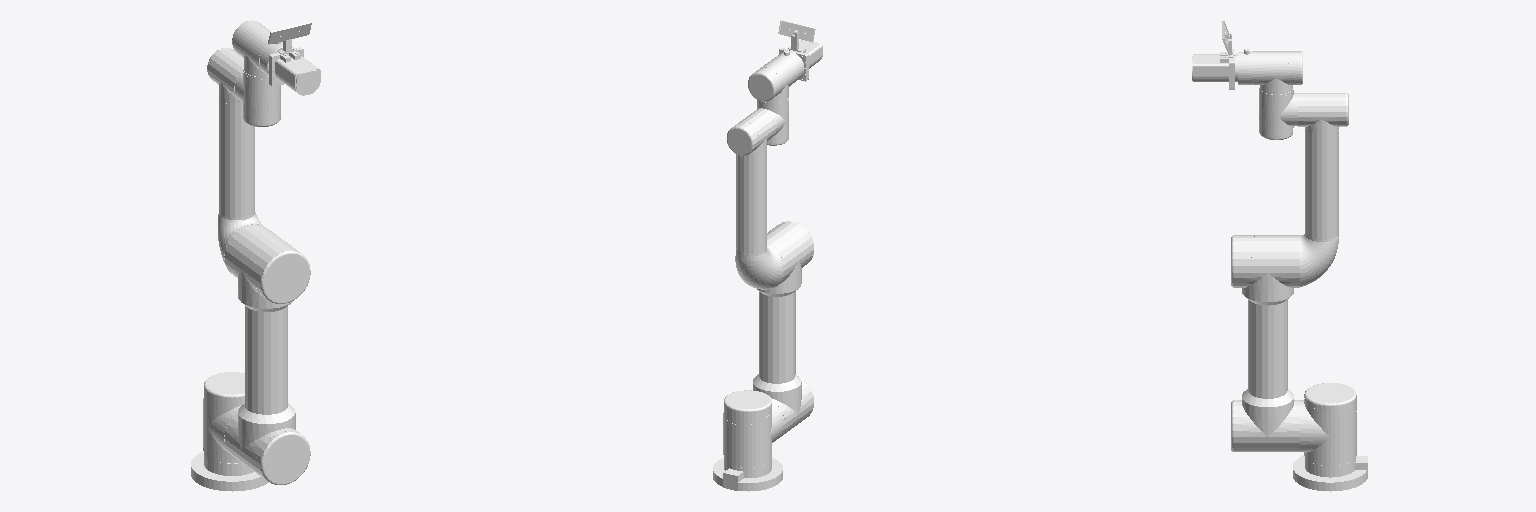
robot.urdf — aubo_C5:
<?xml version="1.0"?>
<robot name="aubo_C5">
  <dh_type type="modified"/>
  <safety_para singularity_consistent="0.02 0.01 10 0.2 0.045 10"/>
  <render_settings ambient_light_color="0xffffff" ambient_light_intensity="0.7" directional_light_color="0xffffff" directional_light_intensity="0.3"/>
  <friction_coeff value="0.65"/>
  <link name="base_link">
    <inertial>
      <origin xyz="0.000129 0.001249 0.016678" rpy="0 0 0" />
      <mass value="1.53902" />
      <inertia ixx="0.003278" ixy="-0.000001" ixz="-0.000001" iyy="0.003017" iyz="-0.000048" izz="0.005841" />
    </inertial>
    <visual>
      <origin xyz="0 0 0" rpy="0 0 0" />
      <geometry>
        <mesh filename="../meshes/aubo_C5/visual/link0.stl" />
      </geometry>
      <material name="">
        <color rgba="1 1 1 1" />
      </material>
    </visual>
    <collision>
      <origin xyz="0 0 0" rpy="0 0 0" />
      <geometry>
        <mesh filename="../meshes/aubo_C5/collision/link0.STL" />
      </geometry>
    </collision>
  </link>

  <link name="shoulder_Link">
    <inertial>
      <origin xyz="-0.00001 0.001807 -0.013854" rpy="0 0 0" />
      <mass value="4.848581" />
      <inertia ixx="0.011842" ixy="0" ixz="0.000004" iyy="0.0118" iyz="-0.000103" izz="0.008103" />
    </inertial>
    <visual>
      <origin xyz="0 0 0" rpy="0 0 0" />
      <geometry>
        <mesh filename="../meshes/aubo_C5/visual/link1.stl" />
      </geometry>
      <material name="">
        <color rgba="1 1 1 1" />
      </material>
    </visual>
    <collision>
      <origin xyz="0 0 0" rpy="0 0 0" />
      <geometry>
        <mesh filename="../meshes/aubo_C5/collision/link1.STL" />
      </geometry>
    </collision>
  </link>

  <joint name="shoulder_joint" type="revolute">
    <origin xyz="0 0 0.122" rpy="0 0 3.1415926535897932384626433832795" />
    <parent link="base_link" />
    <child link="shoulder_Link" />
    <axis xyz="0 0 1" />
    <limit lower="-6.283185307179586476925286766559" upper="6.283185307179586476925286766559" effort="133" start_stop="207" velocity="2.565634" />
    <property inertia="2.027236783" damping="0" stiffness="0" offset="0" motor_constant="8.73" ratio="121" protect_max_torque="80.0" equa_inertia="1.5" />
  </joint>

  <link name="upperArm_Link">
    <inertial>
      <origin xyz="0.2040 0 0.006603" rpy="0 0 0" />
      <mass value="10.836261" />
      <inertia ixx="0.026024" ixy="0.00002" ixz="0" iyy="0.432805" iyz="0" izz="0.425155" />
    </inertial>
    <visual>
      <origin xyz="0 0 0" rpy="0 0 0" />
      <geometry>
        <mesh filename="../meshes/aubo_C5/visual/link2.stl" />
      </geometry>
      <material name="">
        <color rgba="1 1 1 1" />
      </material>
    </visual>
    <collision>
      <origin xyz="0 0 0" rpy="0 0 0" />
      <geometry>
        <mesh filename="../meshes/aubo_C5/collision/link2.STL" />
      </geometry>
    </collision>
  </link>

  <joint name="upperArm_joint" type="revolute">
    <origin xyz="0 0.1215 0" rpy="-1.5707963267948966192313216916398 -1.5707963267948966192313216916398 0" />
    <parent link="shoulder_Link" />
    <child link="upperArm_Link" />
    <axis xyz="0 0 1" />
    <limit lower="-6.283185307179586476925286766559" upper="6.283185307179586476925286766559" effort="133" start_stop="207" velocity="2.565634" />
    <property inertia="2.027236783" damping="0" stiffness="0" offset="0" motor_constant="8.73" ratio="121" protect_max_torque="80.0" equa_inertia="1.5" />
  </joint>

  <link name="foreArm_Link">
    <inertial>
      <origin xyz="0.264626 -0.00002 0.093611" rpy="0 0 0" />
      <mass value="2.849168" />
      <inertia ixx="0.003634" ixy="0.000007" ixz="0.000168" iyy="0.065327" iyz="0.000002" izz="0.064676" />
    </inertial>
    <visual>
      <origin xyz="0 0 0" rpy="0 0 0" />
      <geometry>
        <mesh filename="../meshes/aubo_C5/visual/link3.stl" />
      </geometry>
      <material name="">
        <color rgba="1 1 1 1" />
      </material>
    </visual>
    <collision>
      <origin xyz="0 0 0" rpy="0 0 0" />
      <geometry>
        <mesh filename="../meshes/aubo_C5/collision/link3.STL" />
      </geometry>
    </collision>
  </link>

  <joint name="foreArm_joint" type="revolute">
    <origin xyz="0.408 0 0" rpy="-3.1415926535897932384626433832795 0 0" />
    <parent link="upperArm_Link" />
    <child link="foreArm_Link" />
    <axis xyz="0 0 1" />
    <limit lower="-6.283185307179586476925286766559" upper="6.283185307179586476925286766559" effort="133" start_stop="207" velocity="2.565634" />
    <property inertia="2.027236783" damping="0" stiffness="0" offset="0" motor_constant="8.73" ratio="121" protect_max_torque="60.0" equa_inertia="1.2" />
  </joint>

  <link name="wrist1_Link">
    <inertial>
      <origin xyz="0.000038 0.011278 -0.001539" rpy="0 0 0" />
      <mass value="1.628022" />
      <inertia ixx="0.001951" ixy="0.000003" ixz="0.000001" iyy="0.001154" iyz="-0.000042" izz="0.001931" />
    </inertial>
    <visual>
      <origin xyz="0 0 0" rpy="0 0 0" />
      <geometry>
        <mesh filename="../meshes/aubo_C5/visual/link4.stl" />
      </geometry>
      <material name="">
        <color rgba="1 1 1 1" />
      </material>
    </visual>
    <collision>
      <origin xyz="0 0 0" rpy="0 0 0" />
      <geometry>
        <mesh filename="../meshes/aubo_C5/collision/link4.STL" />
      </geometry>
    </collision>
  </link>

  <joint name="wrist1_joint" type="revolute">
    <origin xyz="0.376 0 0" rpy="3.1415926535897932384626433832795 0 1.5707963267948966192313216916398" />
    <parent link="foreArm_Link" />
    <child link="wrist1_Link" />
    <axis xyz="0 0 1" />
    <limit lower="-6.283185307179586476925286766559" upper="6.283185307179586476925286766559" effort="13.5" start_stop="34" velocity="3.106686" />
    <property inertia="0.219280696" damping="0" stiffness="0" offset="0" motor_constant="7.27" ratio="101" protect_max_torque="16.0" equa_inertia="0.05" />
  </joint>

  <link name="wrist2_Link">
    <inertial>
      <origin xyz="-0.000038 -0.011278 -0.001539" rpy="0 0 0" />
      <mass value="1.628022" />
      <inertia ixx="0.001951" ixy="0.000003" ixz="-0.000001" iyy="0.001154" iyz="0.000042" izz="0.001931" />
    </inertial>
    <visual>
      <origin xyz="0 0 0" rpy="0 0 0" />
      <geometry>
        <mesh filename="../meshes/aubo_C5/visual/link5.stl" />
      </geometry>
      <material name="">
        <color rgba="1 1 1 1" />
      </material>
    </visual>
    <collision>
      <origin xyz="0 0 0" rpy="0 0 0" />
      <geometry>
        <mesh filename="../meshes/aubo_C5/collision/link5.STL" />
      </geometry>
    </collision>
  </link>

  <joint name="wrist2_joint" type="revolute">
    <origin xyz="0 0.1025 0" rpy="-1.5707963267948966192313216916398 0 0" />
    <parent link="wrist1_Link" />
    <child link="wrist2_Link" />
    <axis xyz="0 0 1" />
    <limit lower="-6.283185307179586476925286766559" upper="6.283185307179586476925286766559" effort="13.5" start_stop="34" velocity="3.106686" />
    <property inertia="0.219280696" damping="0" stiffness="0" offset="0" motor_constant="7.27" ratio="101" protect_max_torque="16.0" equa_inertia="0.05" />
  </joint>

  <link name="wrist3_Link">
    <inertial>
      <origin xyz="0.000022 0.0006 -0.017081" rpy="0 0 0" />
      <mass value="0.1978" />
      <inertia ixx="0.000118" ixy="0.0" ixz="0" iyy="0.000112" iyz="0.000001" izz="0.000184" />
    </inertial>
    <visual>
      <origin xyz="0 0 0" rpy="0 0 0" />
      <geometry>
        <mesh filename="../meshes/aubo_C5/visual/link6.stl" />
      </geometry>
      <material name="">
        <color rgba="1 1 1 1" />
      </material>
    </visual>
    <collision>
      <origin xyz="0 0 0" rpy="0 0 0" />
      <geometry>
        <mesh filename="../meshes/aubo_C5/collision/link6.STL" />
      </geometry>
    </collision>
  </link>

  <joint name="wrist3_joint" type="revolute">
    <origin xyz="0 -0.094 0" rpy="1.5707963267948966192313216916398 0 0" />
    <parent link="wrist2_Link" />
    <child link="wrist3_Link" />
    <axis xyz="0 0 1" />
    <limit lower="-6.283185307179586476925286766559" upper="6.283185307179586476925286766559" effort="13.5" start_stop="34" velocity="3.106686" />
    <property inertia="0.219280696" damping="0" stiffness="0" offset="0" motor_constant="7.27" ratio="101" protect_max_torque="10.0" equa_inertia="0.01" />
  </joint>

  <link name="charging_gun_Link">
    <inertial>
      <origin xyz="-0.02 0.00 0.0" rpy="0 0 0" />
      <mass value="0.050" />
      <inertia ixx="0.0001" ixy="0.0" ixz="0" iyy="0.0001" iyz="0.0" izz="0.0001" /> <!-- 估计惯量 -->
    </inertial>
    <visual>
      <origin xyz="0 0 0" rpy="0 0 0" />
      <geometry>
        <mesh filename="../meshes/aubo_C5/visual/charging_gun_top.stl" />
      </geometry>
      <material name="">
        <color rgba="1 1 1 1" />
      </material>
    </visual>
    <collision>
      <origin xyz="0 0 0" rpy="0 0 0" />
      <geometry>
        <mesh filename="../meshes/aubo_C5/collision/charging_gun_top.STL" />
      </geometry>
    </collision>
  </link>

  <joint name="charging_gun_joint" type="fixed">
    <origin xyz="0.0 0.0 0.131" rpy="-1.57 -1.57 0" />
    <parent link="wrist3_Link" />
    <child link="charging_gun_Link" />
  </joint>

  <link name="charging_gun_bottom_Link">
    <inertial>
      <origin xyz="-0.02 0.00 0.0" rpy="0 0 0" />
      <mass value="0.050" />
      <inertia ixx="0.0001" ixy="0.0" ixz="0" iyy="0.0001" iyz="0.0" izz="0.0001" /> <!-- 估计惯量 -->
    </inertial>
    <visual>
      <origin xyz="0 0 0" rpy="0 0 0" />
      <geometry>
        <mesh filename="../meshes/aubo_C5/visual/charging_gun_bottom.stl" />
      </geometry>
      <material name="">
        <color rgba="1 1 1 1" />
      </material>
    </visual>
    <collision>
      <origin xyz="0 0 0" rpy="0 0 0" />
      <geometry>
        <mesh filename="../meshes/aubo_C5/collision/charging_gun_bottom.STL" />
      </geometry>
    </collision>
  </link>

  <joint name="charging_gun_bottom_joint" type="fixed">
    <origin xyz="0.0 0.0 0.0" rpy="-1.57 -1.57 0" />
    <parent link="wrist3_Link" />
    <child link="charging_gun_bottom_Link" />
  </joint>

  <link name="wrist_camera_Link">
    <inertial>
      <origin xyz="-0.02 0 0" rpy="1.57 0 1.57" />
      <mass value="0.10" />
      <inertia ixx="0.001" ixy="0.0" ixz="0" iyy="0.00001" iyz="0.0" izz="0.001" /> <!-- 估计惯量 -->
    </inertial>
    <visual>
      <origin xyz="-0.015 0 0" rpy="1.57 0 1.57" />
      <geometry>
        <mesh filename="../meshes/aubo_C5/visual/Gemini335_camera.stl" />
      </geometry>
      <material name="">
        <color rgba="1 1 1 1" />
      </material>
    </visual>
    <collision>
      <origin xyz="-0.02 0 0" rpy="1.57 0 1.57" />
      <geometry>
        <box size="0.09 0.025 0.036"  />
      </geometry>
    </collision>
  </link>
  
  <link name="camera_seat_Link">
    <inertial>
      <origin xyz="0 0 0" rpy="0 0 0" />
      <mass value="0.01" />
      <inertia ixx="0.00001" ixy="0.0" ixz="0" iyy="0.00001" iyz="0.0" izz="0.00001" /> <!-- 估计惯量 -->
    </inertial>
    <visual>
      <origin xyz="0 0 0" rpy="0 0 0" />
      <geometry>
        <mesh filename="../meshes/aubo_C5/visual/camera_seat.stl" />
      </geometry>
      <material name="">
        <color rgba="1 1 1 1" />
      </material>
    </visual>
    <collision>
      <origin xyz="0 0 0" rpy="0 0 0" />
      <geometry>
        <mesh filename="../meshes/aubo_C5/collision/camera_seat.STL" />
      </geometry>
    </collision>
  </link>

  <joint name="wrist_camera_joint" type="fixed">
    <origin xyz="0.045 0.0 0.0" rpy="0 0 0" />
    <parent link="camera_seat_Link" />
    <child link="wrist_camera_Link" />
  </joint>

  <link name="camera_seat_bottom_Link">
    <inertial>
      <origin xyz="0 0 0" rpy="0 0 0" />
      <mass value="0.01" />
      <inertia ixx="0.00001" ixy="0.0" ixz="0" iyy="0.00001" iyz="0.0" izz="0.00001" /> <!-- 估计惯量 -->
    </inertial>
    <visual>
      <origin xyz="0 0 0" rpy="0 0 0" />
      <geometry>
        <mesh filename="../meshes/aubo_C5/visual/camera_seat_bottom.stl" />
      </geometry>
      <material name="">
        <color rgba="1 1 1 1" />
      </material>
    </visual>
    <collision>
      <origin xyz="0 0 0" rpy="0 0 0" />
      <geometry>
        <mesh filename="../meshes/aubo_C5/collision/camera_seat_bottom.STL" />
      </geometry>
    </collision>
  </link>

  <joint name="camera_seat_bottom_joint" type="fixed">
    <origin xyz="-0.120 -0.0 0.08" rpy="0 0 0" />
    <parent link="charging_gun_Link" />
    <child link="camera_seat_bottom_Link" />
  </joint>

  <joint name="camera_seat_joint" type="fixed">
    <origin xyz="0 -0.0 0" rpy="0 0.349066 0" />
    <parent link="camera_seat_bottom_Link" />
    <child link="camera_seat_Link" />
  </joint>

  <link name="world" />

  <joint name="world_joint" type="fixed">
    <parent link="world" />
    <child link = "base_link" />
    <origin xyz="0.0 0.0 0.0" rpy="0.0 0.0 0.0" />
  </joint>
</robot>

--- Render facts (derived) ---
Views: 3 orthographic renders of the robot side by side, from view 1: azimuth 30°, elevation 25°; view 2: azimuth 150°, elevation 25°; view 3: azimuth 270°, elevation 25°.
Robot: aubo_C5 — 13 links, 12 joints (6 revolute, 6 fixed); root link world; default pose: every joint at zero.
Visible links, largest first — view 1: upperArm_Link, foreArm_Link, shoulder_Link, wrist1_Link, base_link, charging_gun_bottom_Link, wrist2_Link, camera_seat_Link; view 2: upperArm_Link, foreArm_Link, shoulder_Link, base_link, wrist2_Link, wrist1_Link, charging_gun_bottom_Link; view 3: upperArm_Link, foreArm_Link, shoulder_Link, wrist2_Link, base_link, wrist1_Link, charging_gun_bottom_Link, wrist3_Link.
Link boxes in pixels (x1=…): upperArm_Link: x1=224, y1=224, x2=310, y2=484; foreArm_Link: x1=207, y1=48, x2=262, y2=272; shoulder_Link: x1=203, y1=372, x2=244, y2=463; wrist1_Link: x1=235, y1=68, x2=280, y2=126; base_link: x1=191, y1=448, x2=268, y2=491; charging_gun_bottom_Link: x1=269, y1=47, x2=320, y2=95; wrist2_Link: x1=232, y1=20, x2=270, y2=76; camera_seat_Link: x1=268, y1=21, x2=311, y2=44; upperArm_Link: x1=753, y1=221, x2=813, y2=437; foreArm_Link: x1=727, y1=110, x2=782, y2=289; shoulder_Link: x1=723, y1=390, x2=783, y2=467; base_link: x1=713, y1=458, x2=782, y2=491; wrist2_Link: x1=748, y1=56, x2=797, y2=102; wrist1_Link: x1=756, y1=98, x2=788, y2=145; charging_gun_bottom_Link: x1=779, y1=40, x2=822, y2=81; upperArm_Link: x1=1231, y1=235, x2=1299, y2=451; foreArm_Link: x1=1298, y1=93, x2=1348, y2=286; shoulder_Link: x1=1300, y1=383, x2=1356, y2=465; wrist2_Link: x1=1252, y1=51, x2=1302, y2=94; base_link: x1=1293, y1=455, x2=1367, y2=491; wrist1_Link: x1=1259, y1=87, x2=1297, y2=139; charging_gun_bottom_Link: x1=1192, y1=49, x2=1234, y2=89; wrist3_Link: x1=1234, y1=49, x2=1251, y2=84.
Bounding box of the posed robot: 0.17 × 0.3966 × 1.1 m (x, y, z).
10 mesh visuals loaded from 12 distinct referenced files (10 binary STL); not drawn: 2 (reference not matched to a file when rendering).
